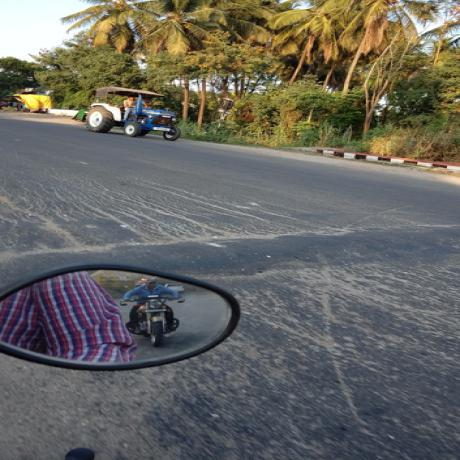Speed Bump: (0, 225, 459, 275)
